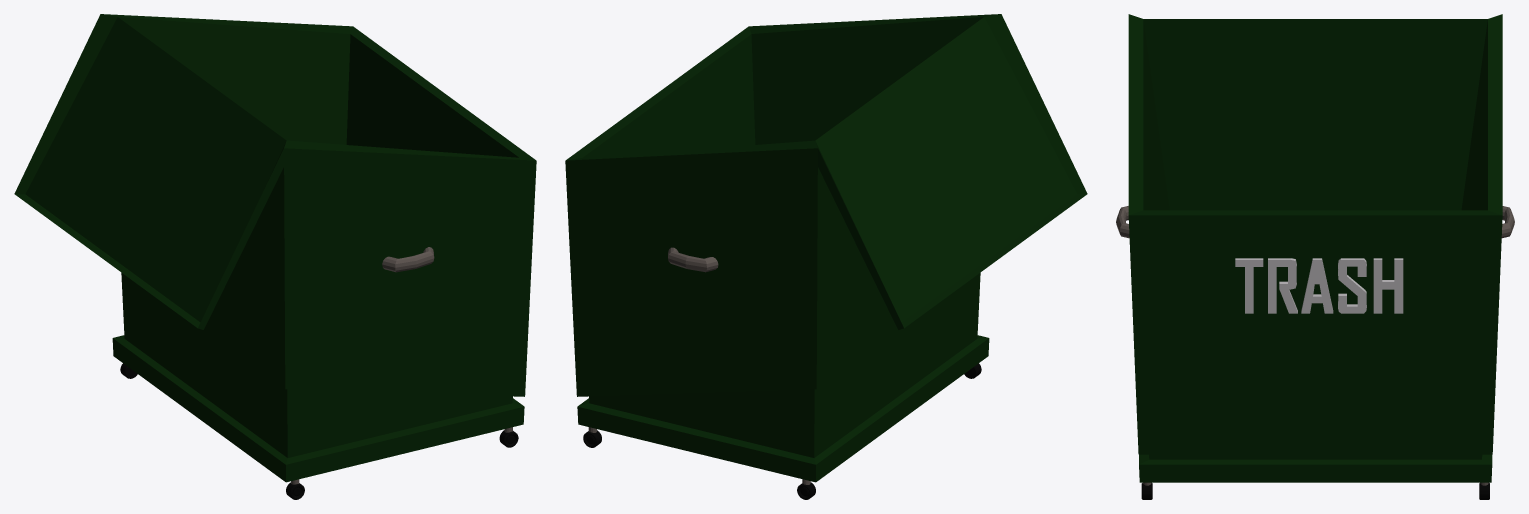
File: Trashbak.fbx
The picture shows the model from 3 angles, left to right: view 1: azimuth 30°, elevation 25°; view 2: azimuth 150°, elevation 25°; view 3: azimuth 270°, elevation 25°; orthographic projection.
Visible parts, largest first — view 1: Cube; view 2: Cube; view 3: Cube.
Part boxes in pixels (box(x1,y1,x2,y2)): Cube: box(14, 14, 536, 499); Cube: box(565, 14, 1087, 499); Cube: box(1116, 14, 1514, 499).
Size of the model in its own units: 201 by 204 by 200.
